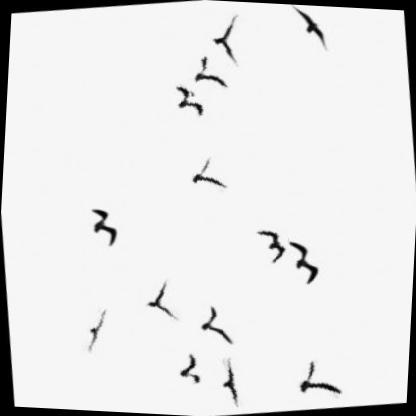bird: (289, 352, 346, 407), (203, 7, 250, 71), (282, 4, 335, 58), (135, 274, 181, 328), (283, 235, 325, 289), (214, 352, 253, 410), (181, 153, 228, 201), (167, 75, 212, 125), (186, 50, 232, 96), (194, 301, 238, 348), (78, 304, 113, 359), (252, 223, 291, 269), (86, 203, 122, 251), (170, 349, 206, 390)
